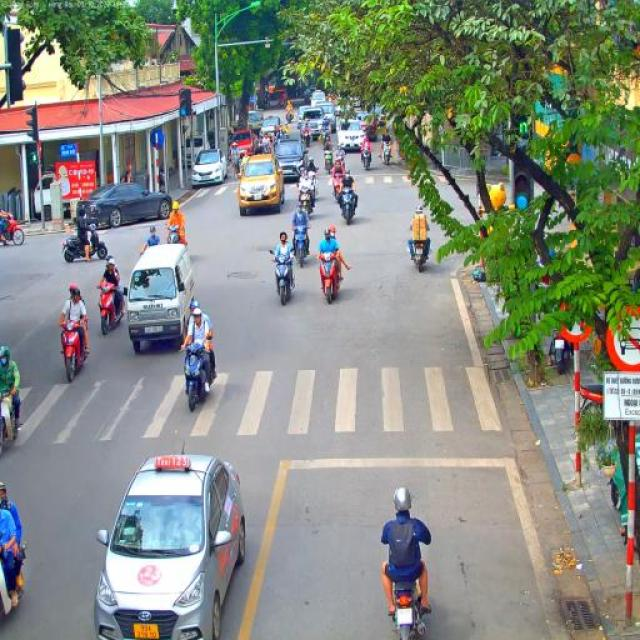car: (91, 452, 246, 640), (78, 182, 174, 229), (237, 153, 285, 217), (272, 138, 308, 184), (191, 148, 229, 187), (338, 116, 367, 156), (298, 106, 326, 142), (259, 116, 282, 146), (232, 130, 256, 158), (320, 100, 336, 132), (359, 114, 377, 142), (248, 111, 264, 138), (311, 92, 327, 106)
motorcycle: (390, 564, 428, 640), (181, 342, 217, 412), (0, 538, 26, 621), (58, 318, 88, 382), (63, 223, 109, 262), (96, 283, 125, 336), (316, 251, 344, 304), (0, 389, 21, 456), (271, 254, 295, 306), (1, 209, 25, 247), (552, 330, 572, 375), (290, 224, 310, 268), (577, 384, 603, 414), (340, 187, 356, 226), (298, 185, 314, 223), (165, 224, 187, 251), (413, 238, 429, 272), (332, 174, 346, 207), (306, 170, 319, 200), (381, 141, 392, 165), (323, 151, 333, 177), (362, 148, 372, 172), (230, 156, 240, 178), (334, 154, 346, 171), (302, 130, 312, 150), (262, 142, 269, 154), (273, 138, 279, 152), (284, 130, 290, 142), (287, 112, 292, 126)
truck: (124, 242, 194, 353), (40, 176, 72, 222), (183, 134, 205, 166), (268, 86, 288, 106)
